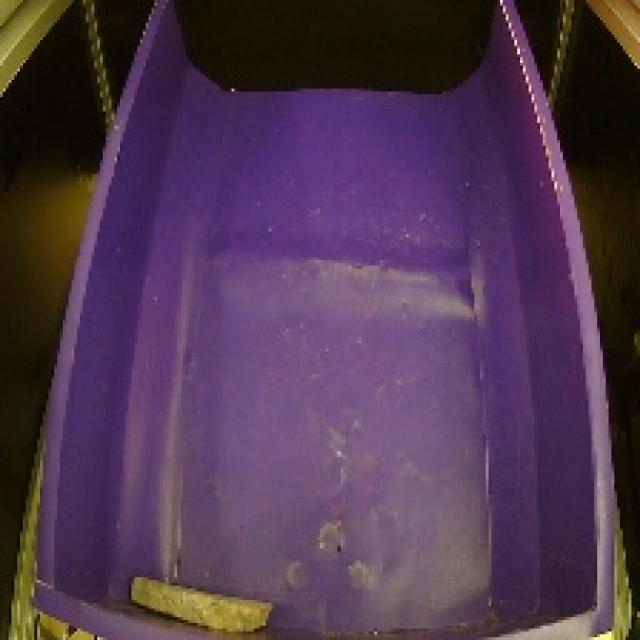china: (113, 567, 288, 639)
